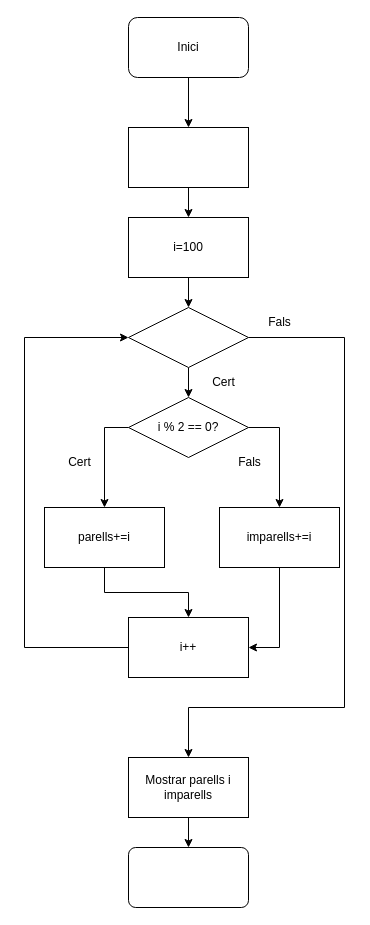
Some shapes in this 370 by 925 pixel diagram are drawn without their labels. The shapes that lost their labels are listed below. From the top down, each one's centre as x and y in pixels, then its label:
At pixel 188 157: "parells = 0 imparells = 0".
At pixel 188 337: "i <= 200?".
At pixel 188 877: "Fi".
